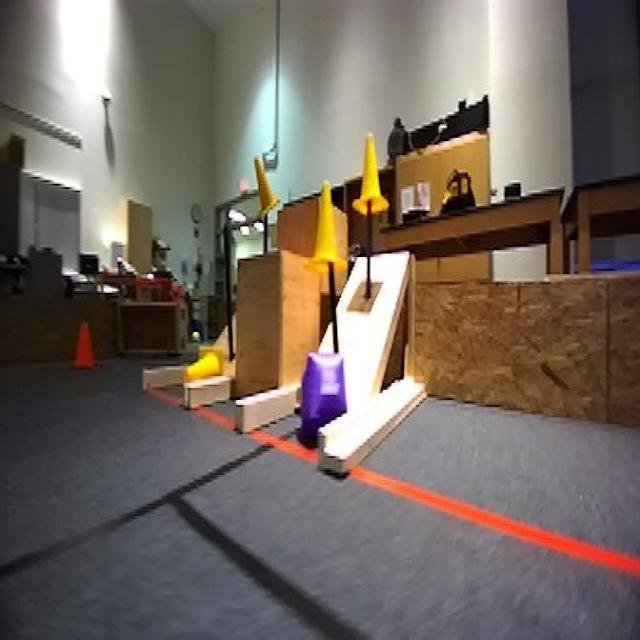frc_cone: (304, 179, 348, 277), (352, 133, 391, 216), (185, 342, 228, 387), (253, 153, 280, 216)
frc_cube: (297, 350, 350, 436)
